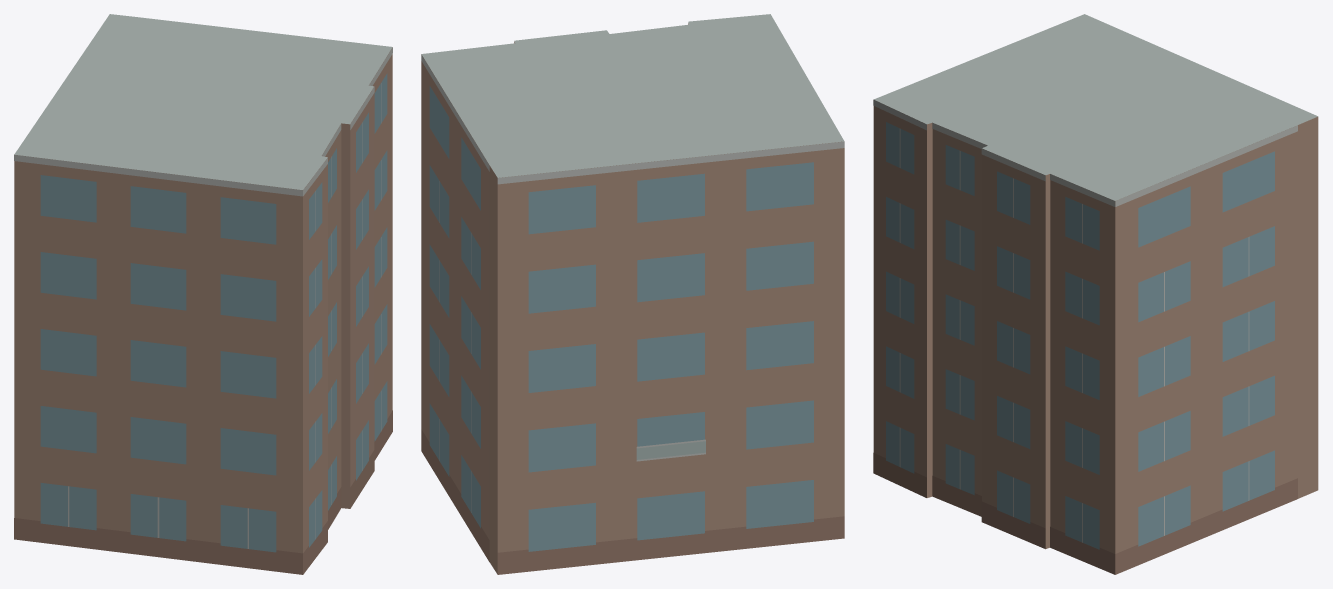
Rendered from survey-upis-32951755.glb.
The picture shows the model from 3 angles, left to right: view 1: azimuth 30°, elevation 25°; view 2: azimuth 150°, elevation 25°; view 3: azimuth 270°, elevation 25°; orthographic projection. The views are drawn at different scales.
Parts seen in each view (by area): view 1: survey-upis-32951755.tmp; view 2: survey-upis-32951755.tmp; view 3: survey-upis-32951755.tmp.
Boxes of the visible parts, x1,y1,x2,y2 form: survey-upis-32951755.tmp: (14, 14, 392, 574); survey-upis-32951755.tmp: (421, 14, 844, 574); survey-upis-32951755.tmp: (873, 14, 1318, 574).
Size of the model in its own units: 15.89 by 14.8 by 15.97.
